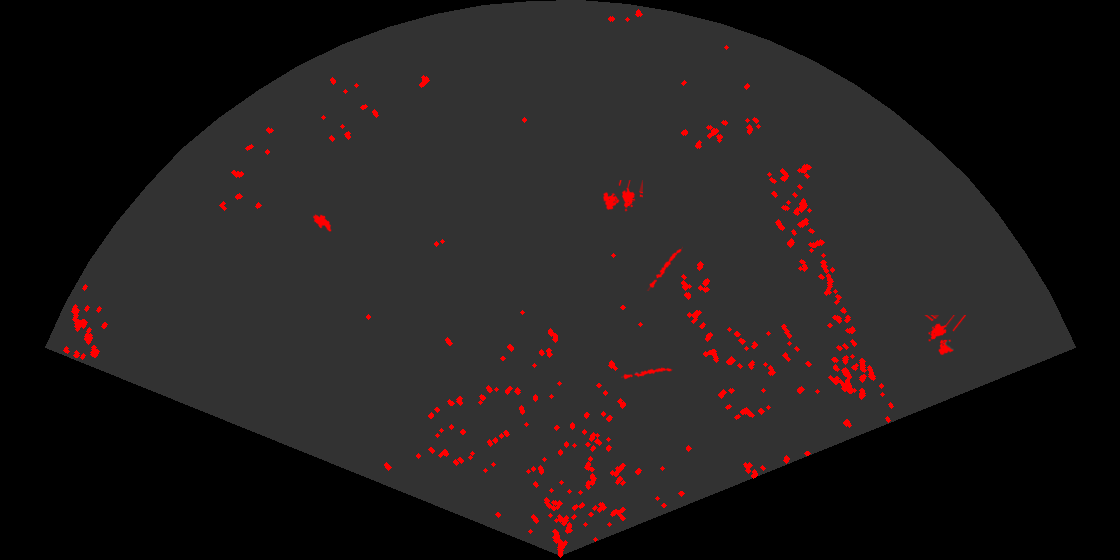AUV: (311, 213, 333, 233)
cage: (923, 315, 966, 357), (602, 180, 643, 213)
chain: (645, 245, 683, 291), (621, 366, 673, 381)
